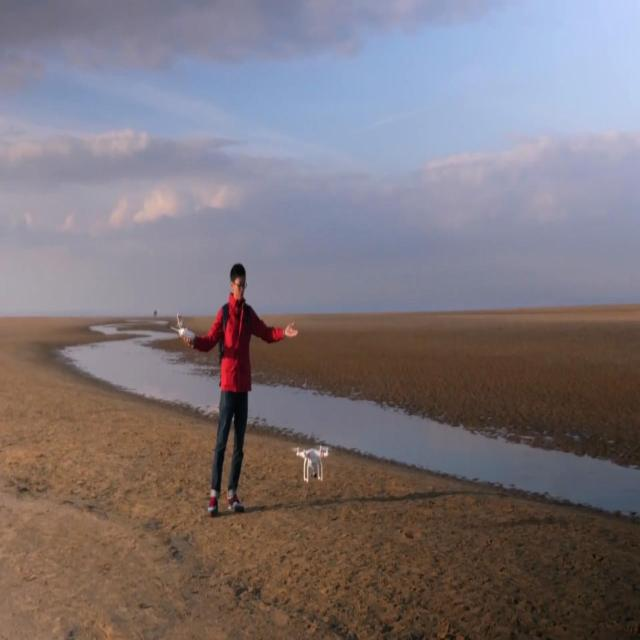drone: (293, 442, 332, 482)
